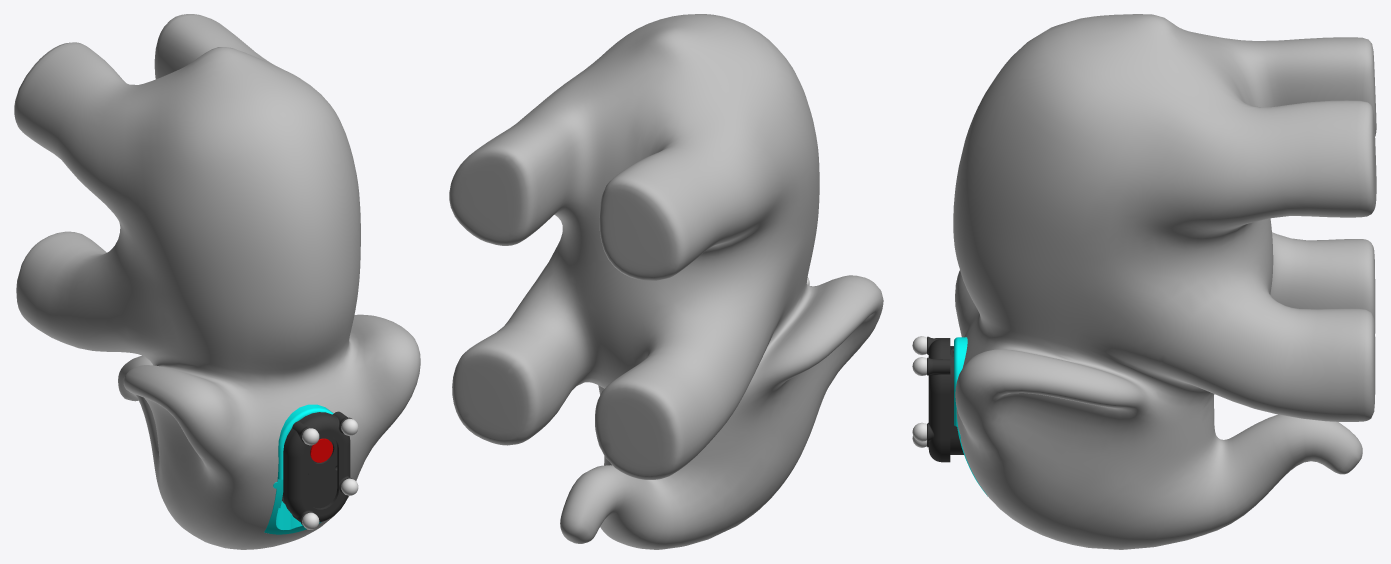
File: elephant.fbx
The picture shows the model from 3 angles, left to right: view 1: azimuth 30°, elevation 25°; view 2: azimuth 150°, elevation 25°; view 3: azimuth 270°, elevation 25°; orthographic projection. The views are drawn at different scales.
Visible parts, largest first — view 1: Elephant, PWR_M_PN3; view 2: Elephant; view 3: Elephant, PWR_M_PN3.
Boxes of the visible parts, x1,y1,x2,y2 form: Elephant: (14,14,420,549); PWR_M_PN3: (282,411,358,529); Elephant: (449,14,883,549); Elephant: (953,14,1376,549); PWR_M_PN3: (912,336,963,462).
Bounding box in the file's own units: 7.55 × 13.46 × 10.89.
